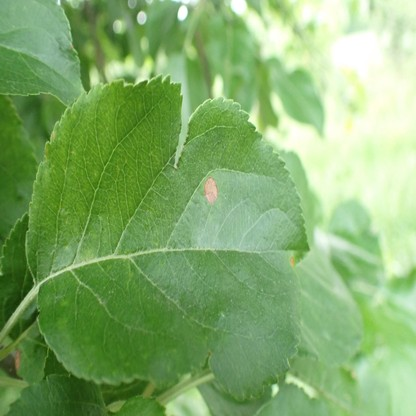frogeye_leaf_spot: (203, 178, 218, 204), (15, 348, 21, 371), (289, 257, 295, 264)
